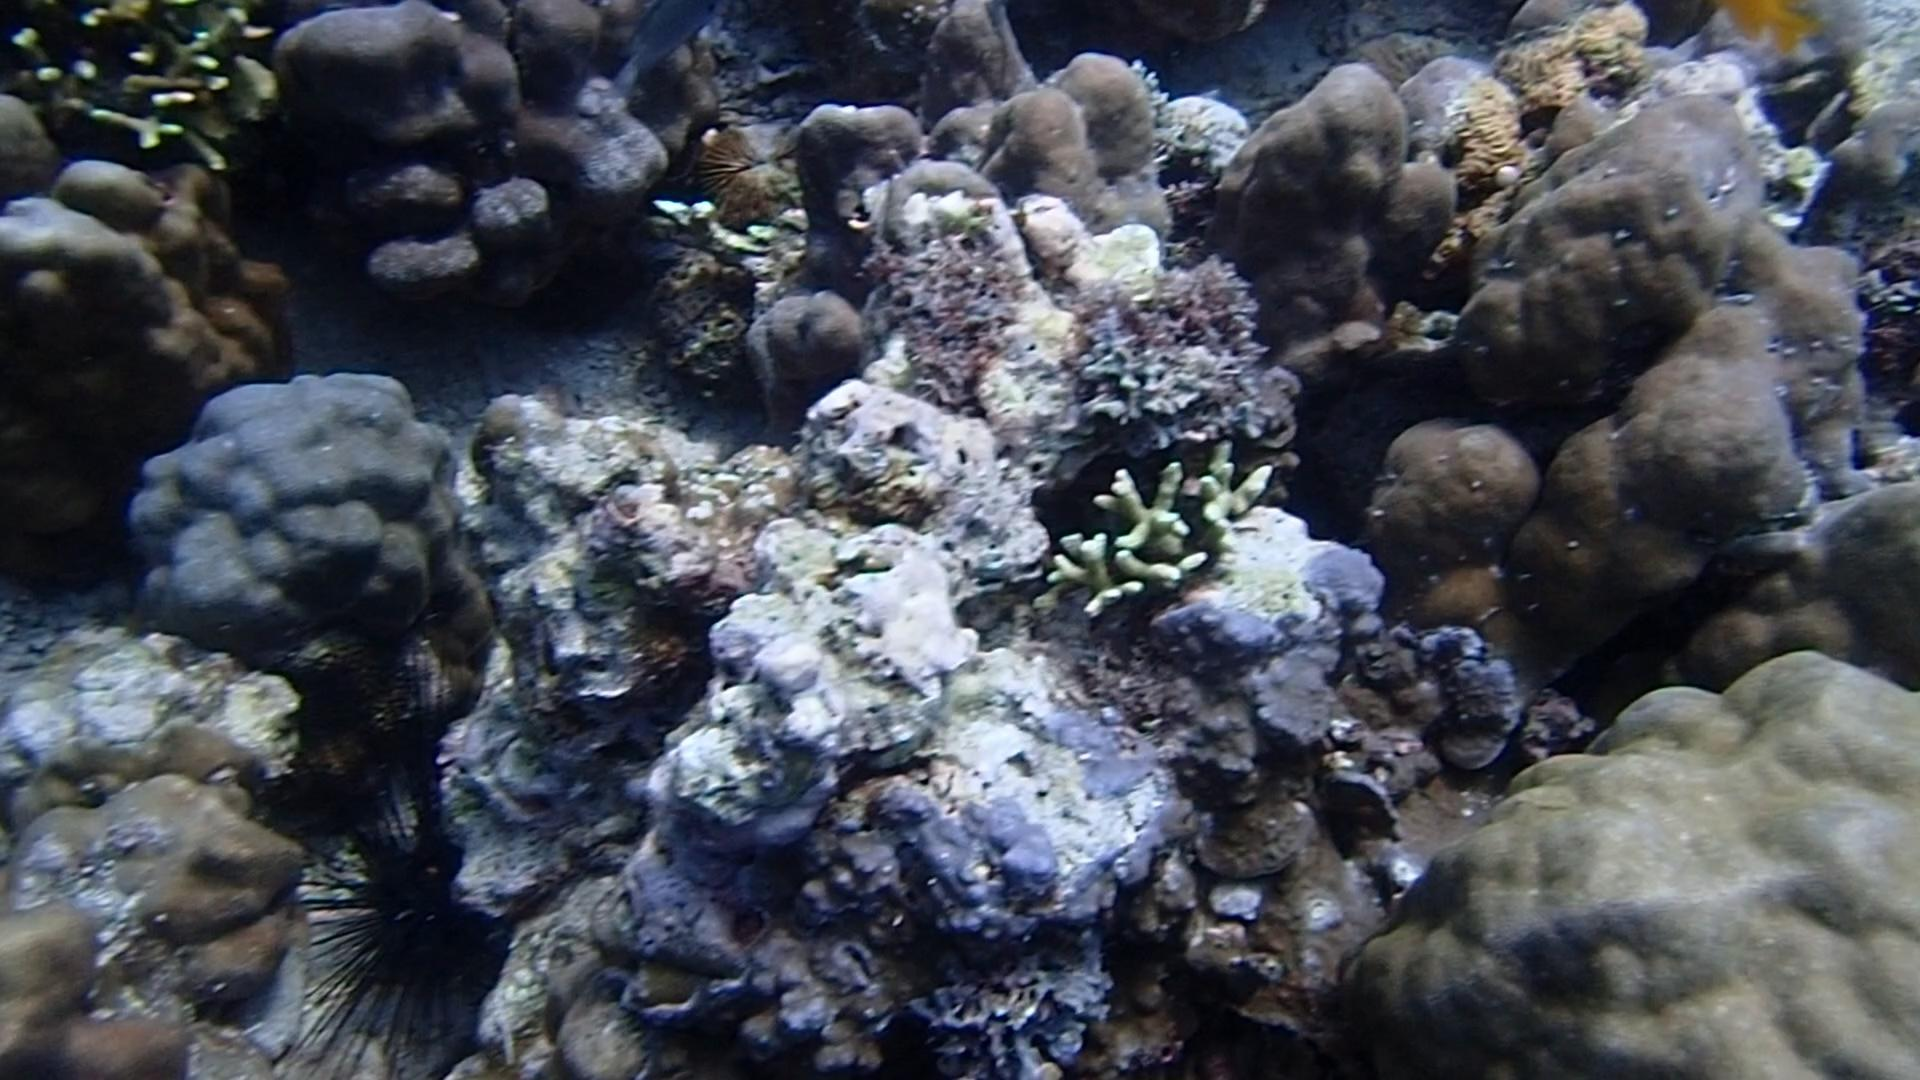Blue Fish Two: (605, 0, 721, 94)
Yellow Fish: (1702, 0, 1826, 61)
